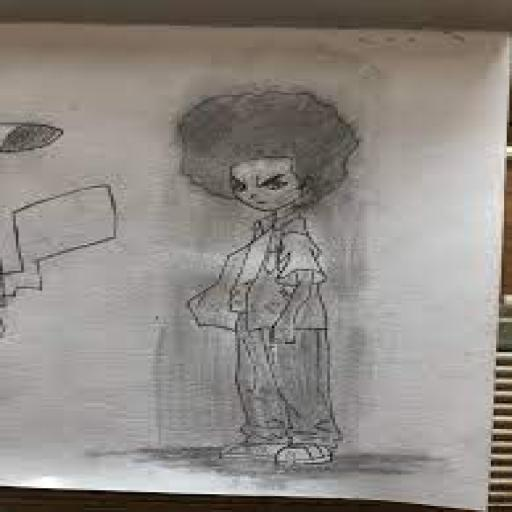person: (159, 78, 379, 477)
